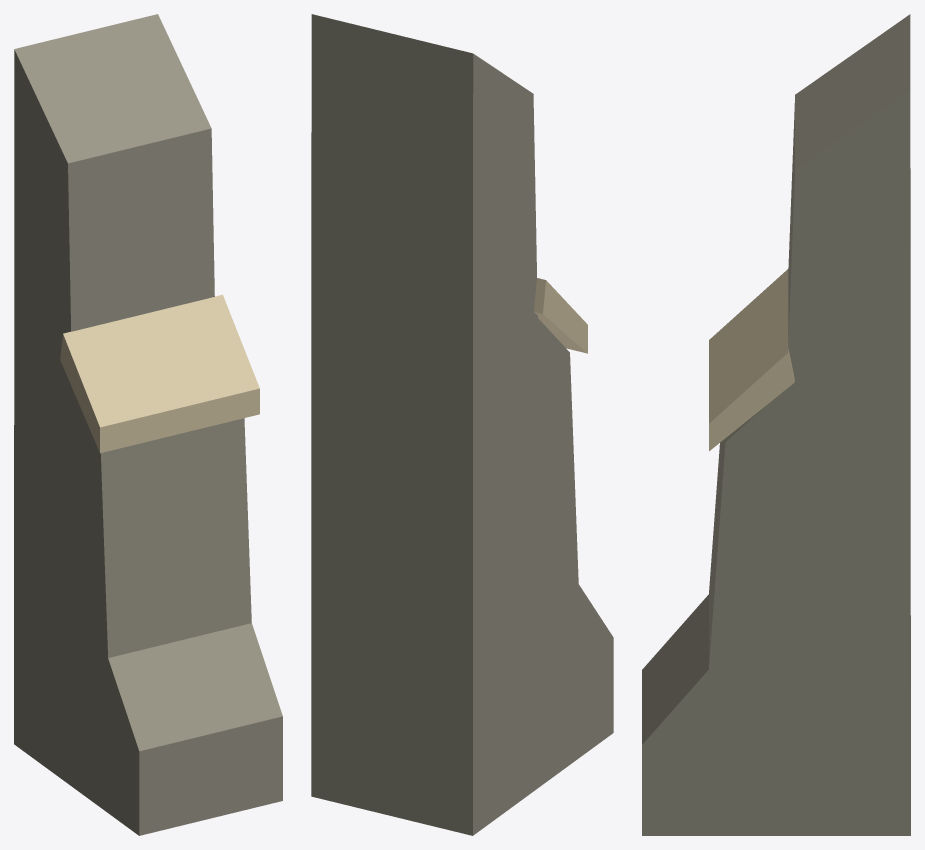
File: wall_buttress.glb
The picture shows the model from 3 angles, left to right: view 1: azimuth 30°, elevation 25°; view 2: azimuth 150°, elevation 25°; view 3: azimuth 270°, elevation 25°; orthographic projection. The views are drawn at different scales.
Parts seen in each view (by area): view 1: Wall buttress; view 2: Wall buttress; view 3: Wall buttress.
Part boxes in pixels (box(x1,y1,x2,y2)): Wall buttress: box(14, 14, 282, 835); Wall buttress: box(311, 14, 613, 835); Wall buttress: box(642, 14, 910, 835).
Size of the model in its own units: 0.356 by 1.48 by 0.483.
